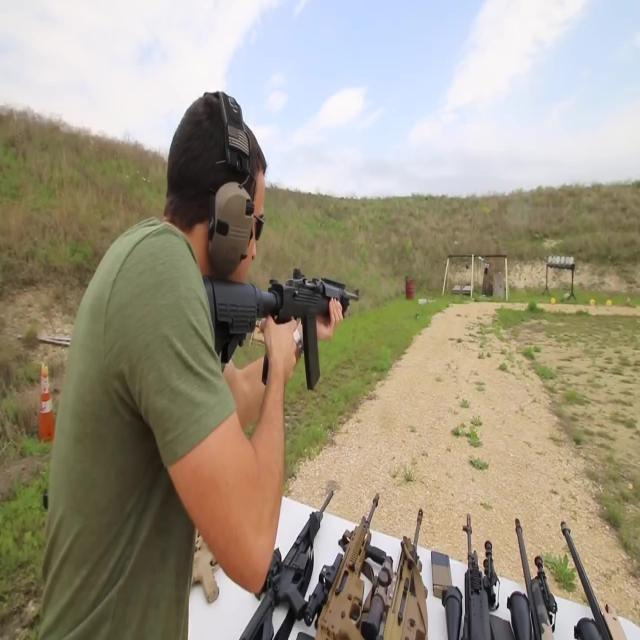Weapon: (167, 458, 640, 640), (184, 250, 408, 410)
